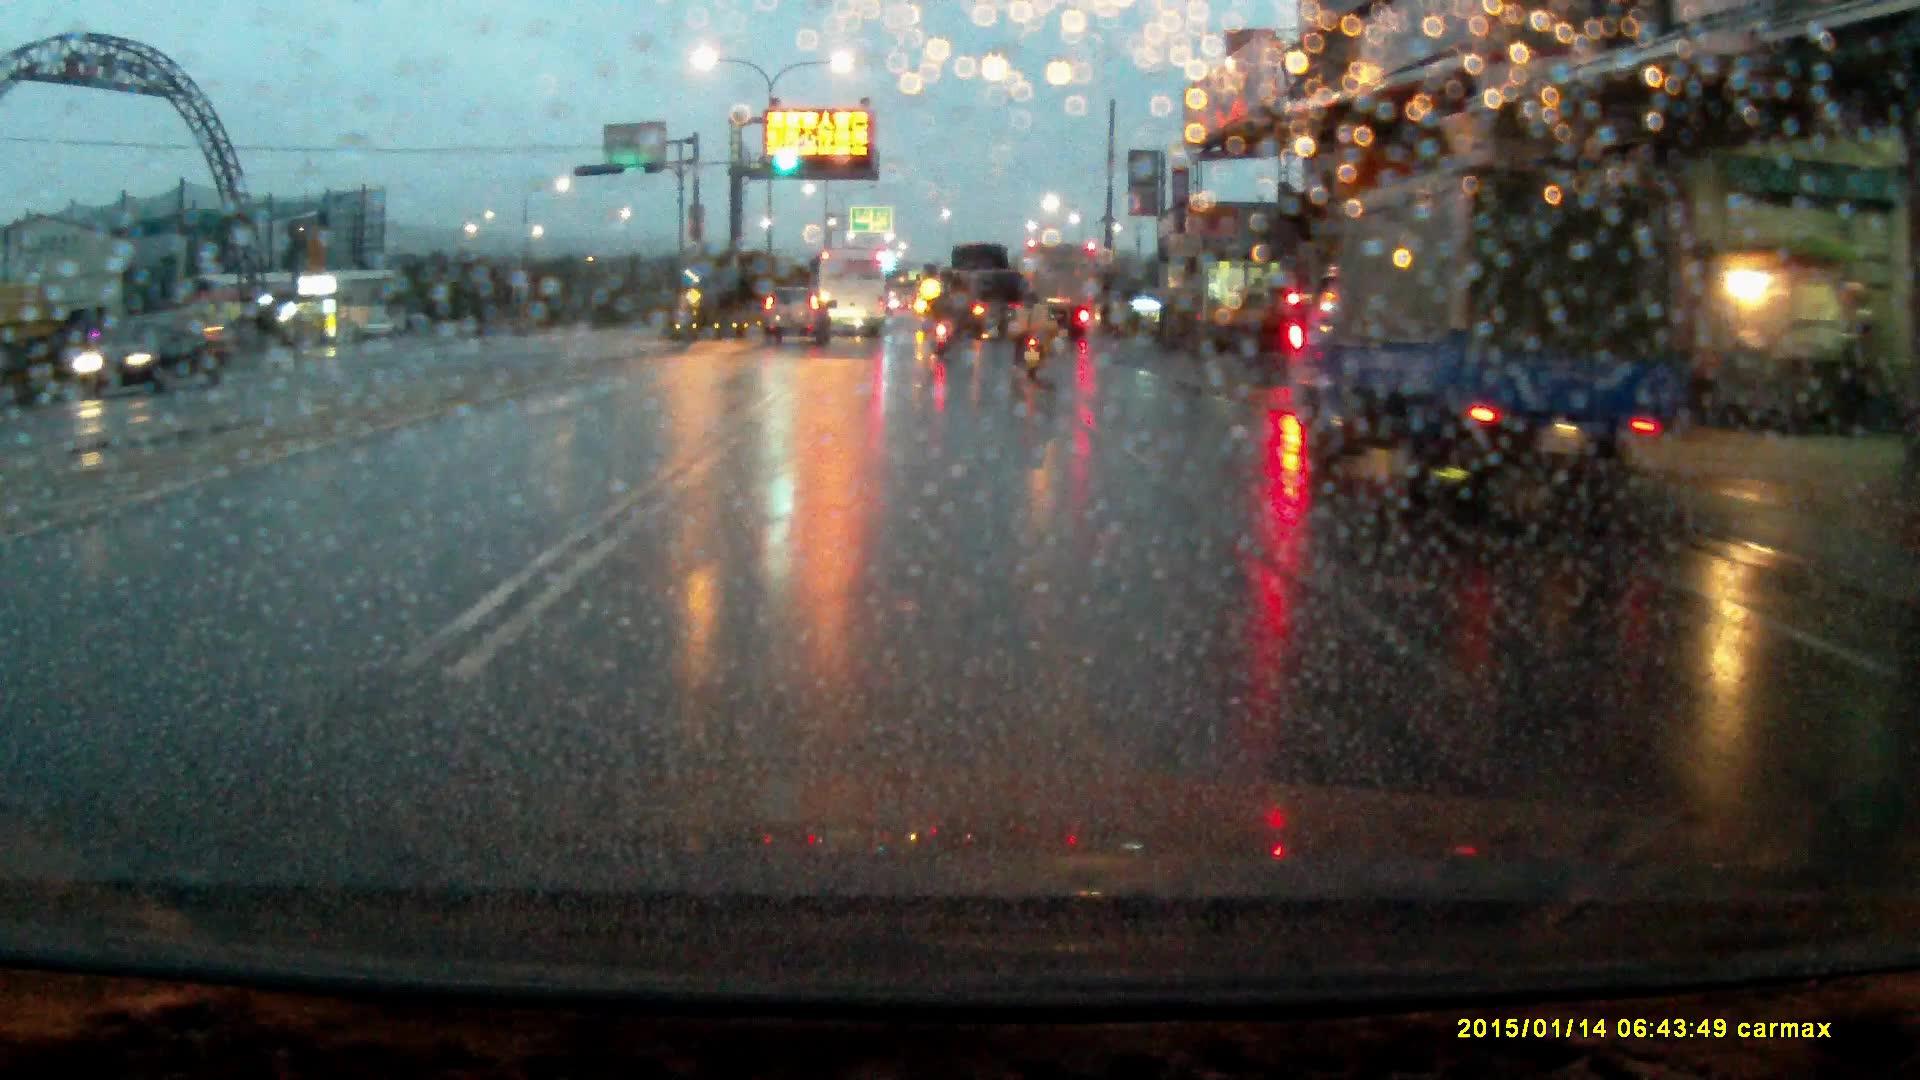rider: (1010, 285, 1051, 380), (930, 288, 957, 360)
vehicle: (1279, 155, 1699, 505), (69, 321, 225, 399), (943, 242, 1022, 340), (1025, 239, 1099, 330), (816, 247, 889, 332), (764, 284, 830, 341)
